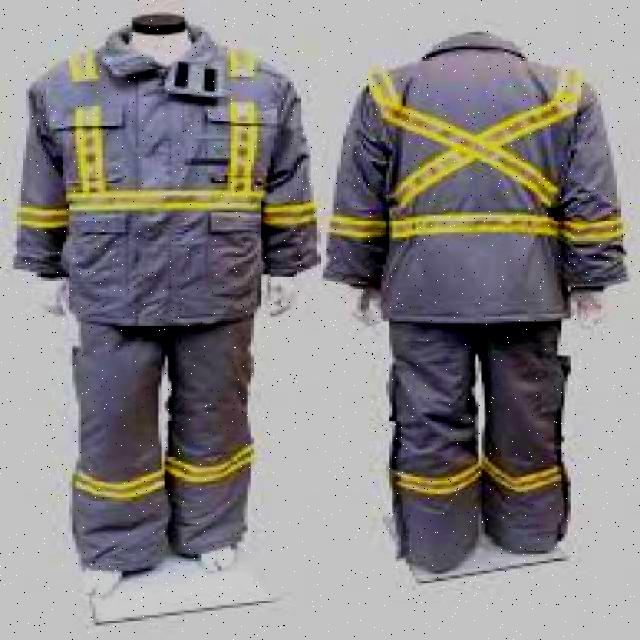Mask: (22, 34, 316, 528), (353, 41, 622, 522)
